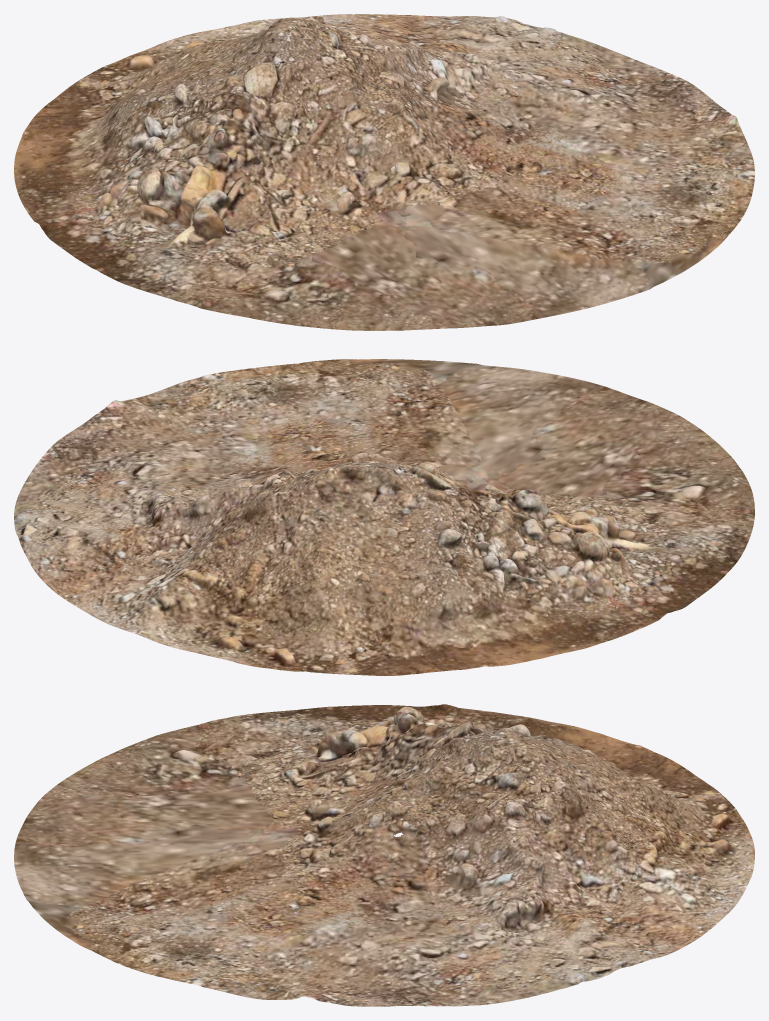
Rendered from construction_rubble.glb.
3 views of the same model, one above another, from view 1: azimuth 30°, elevation 25°; view 2: azimuth 150°, elevation 25°; view 3: azimuth 270°, elevation 25° (orthographic). The views are drawn at different scales.
Parts seen in each view (by area): view 1: mesh_main_0; view 2: mesh_main_0; view 3: mesh_main_0.
Boxes of the visible parts, x1,y1,x2,y2 form: mesh_main_0: (14,14,754,330); mesh_main_0: (14,359,754,675); mesh_main_0: (14,704,754,1006).
Bounding box in the file's own units: 5.7 × 0.9592 × 5.85.
Materials: 1 (1 with a texture image).
